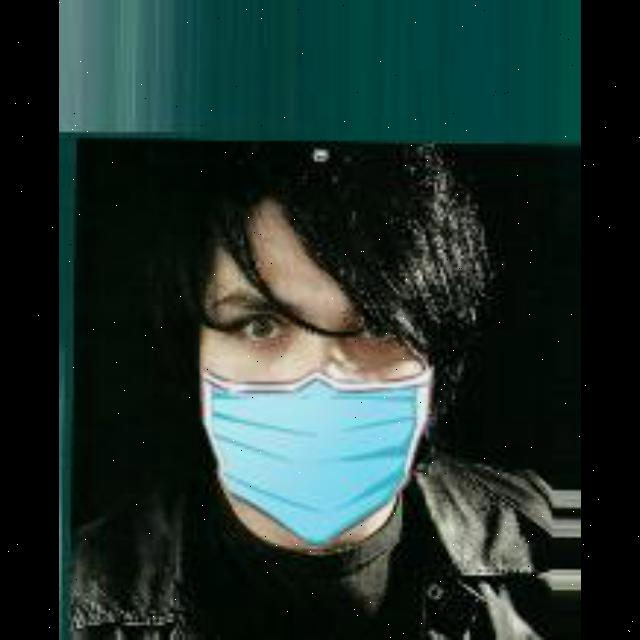suspicion: (190, 138, 454, 562)
